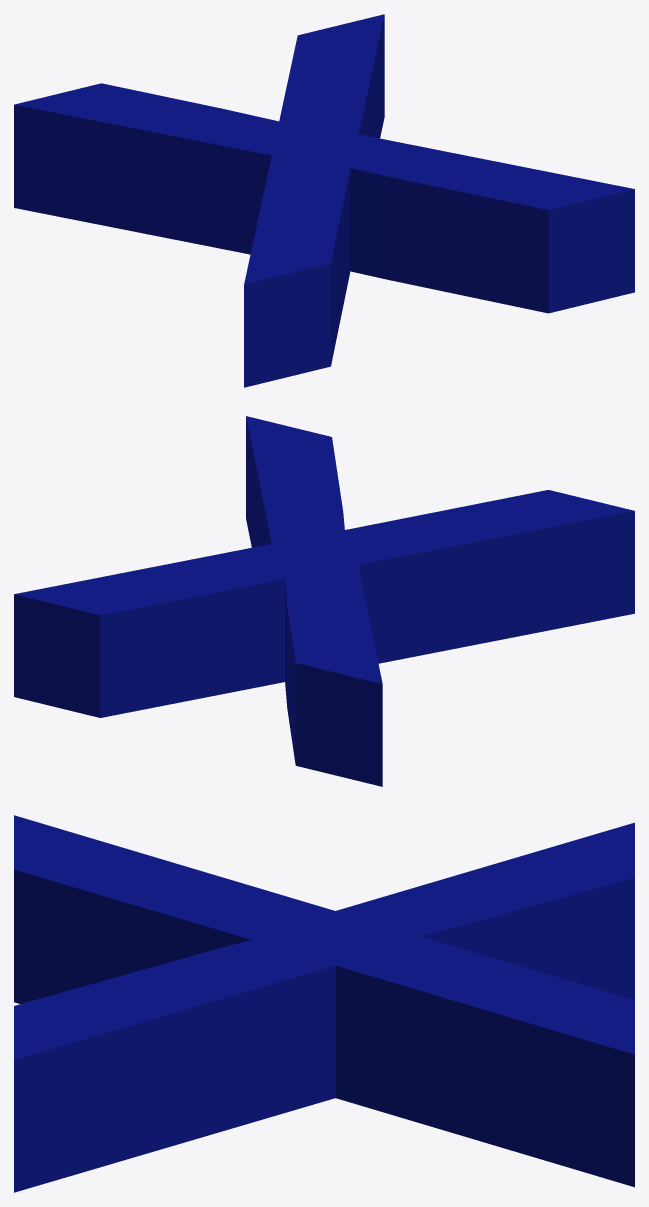
3 views of the same model, one above another, from view 1: azimuth 30°, elevation 25°; view 2: azimuth 150°, elevation 25°; view 3: azimuth 270°, elevation 25° (orthographic). The views are drawn at different scales.
Parts seen in each view (by area): view 1: TextPlus050; view 2: TextPlus050; view 3: TextPlus050.
Boxes of the visible parts, x1,y1,x2,y2 form: TextPlus050: [14, 14, 634, 387]; TextPlus050: [14, 416, 634, 786]; TextPlus050: [14, 815, 634, 1192].
Bounding box in the file's own units: 17.36 × 4.38 × 18.6.
